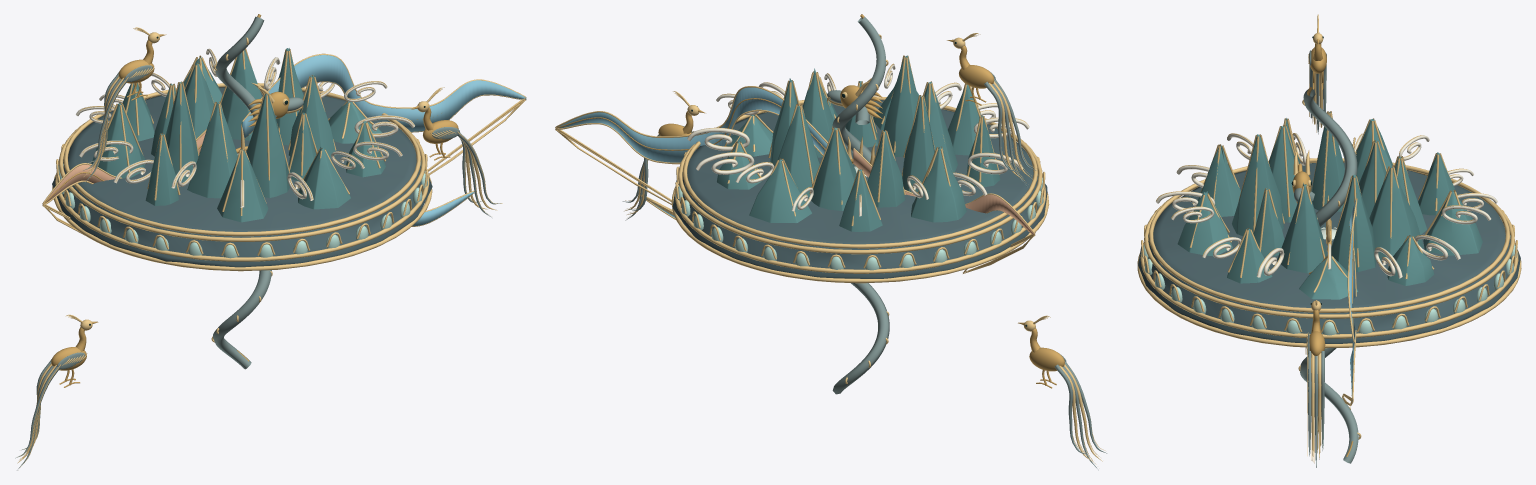
File: 精简模型.glb
3 views of the same model, side by side, from view 1: azimuth 30°, elevation 25°; view 2: azimuth 150°, elevation 25°; view 3: azimuth 270°, elevation 25° (orthographic).
Parts seen in each view (by area): view 1: asset_base, asset_ribbons, asset_birds, asset_dragon; view 2: asset_base, asset_ribbons, asset_birds, asset_dragon; view 3: asset_base, asset_birds, asset_dragon, asset_ribbons.
Boxes of the visible parts, x1,y1,x2,y2 form: asset_base: (52, 48, 432, 271); asset_ribbons: (42, 53, 526, 235); asset_birds: (15, 27, 502, 470); asset_dragon: (211, 14, 303, 369); asset_base: (671, 55, 1049, 283); asset_ribbons: (555, 86, 1035, 273); asset_birds: (622, 33, 1107, 470); asset_dragon: (827, 14, 889, 394); asset_base: (1137, 111, 1521, 348); asset_birds: (1305, 14, 1326, 467); asset_dragon: (1291, 87, 1361, 463); asset_ribbons: (1317, 137, 1357, 431).
Bounding box in the file's own units: 10.41 × 7.68 × 6.41.
